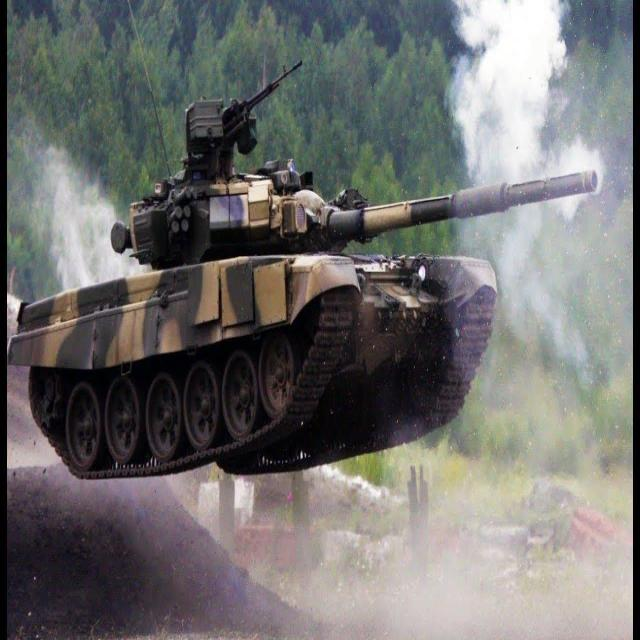Tanks: (12, 92, 504, 492)
